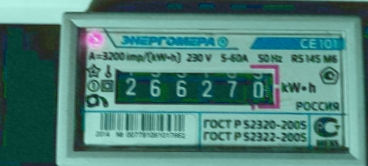0: (249, 77, 263, 97)
2: (122, 73, 135, 95), (199, 76, 212, 96)
6: (147, 75, 159, 96), (173, 76, 186, 95)
7: (225, 76, 235, 96)
screen: (101, 56, 284, 113)
